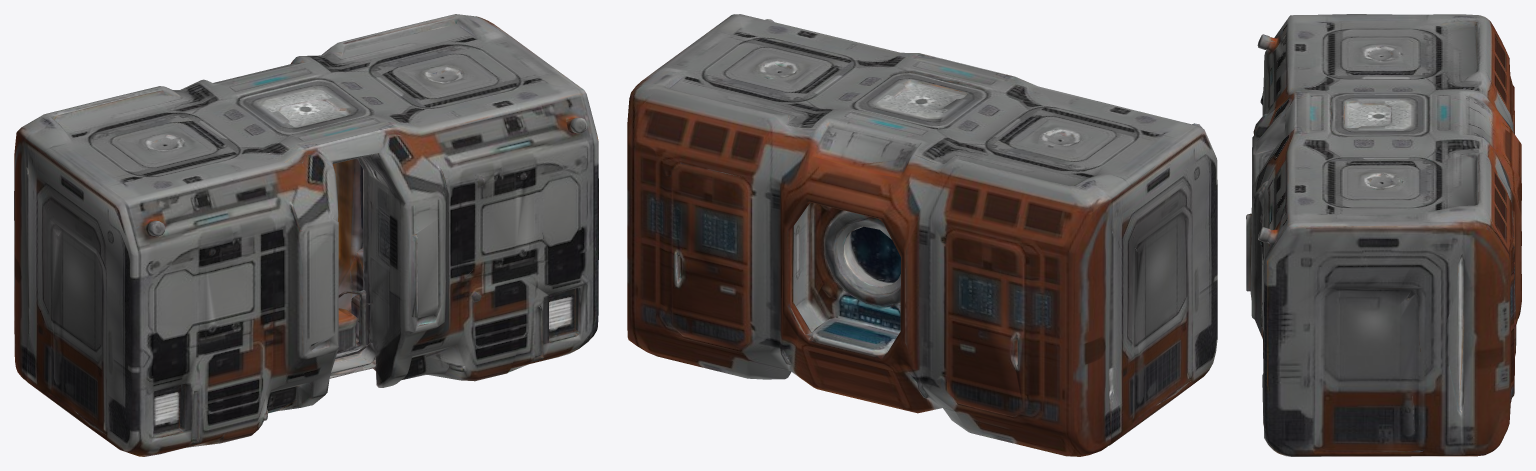
File: capital_officer_quarters.repacked.glb
3 views of the same model, side by side, from view 1: azimuth 30°, elevation 25°; view 2: azimuth 150°, elevation 25°; view 3: azimuth 270°, elevation 25° (orthographic). The views are drawn at different scales.
Visible parts, largest first — view 1: Mesh1.0; view 2: Mesh1.0; view 3: Mesh1.0.
Boxes of the visible parts, x1=… form: Mesh1.0: x1=14, y1=14, x2=598, y2=456; Mesh1.0: x1=627, y1=14, x2=1217, y2=456; Mesh1.0: x1=1246, y1=14, x2=1521, y2=456.
Bounding box in the file's own units: 1.91 × 1.02 × 1.04.
Materials: 1 (1 with a texture image).
